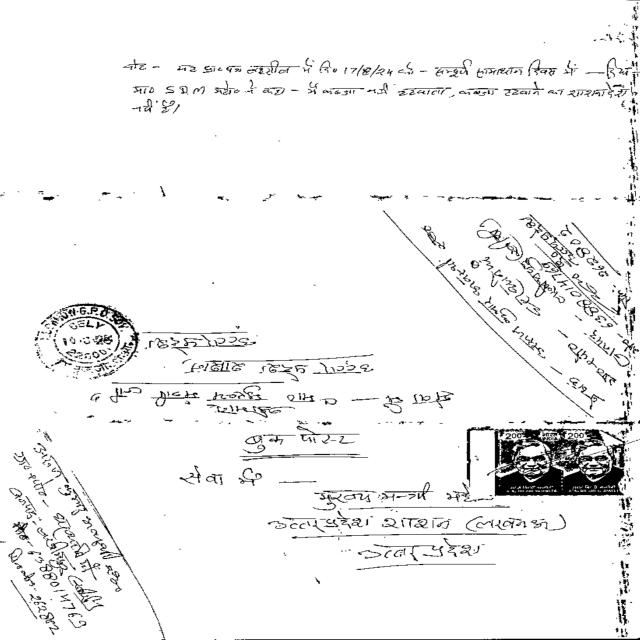logo: (26, 300, 144, 382), (492, 428, 628, 499)
